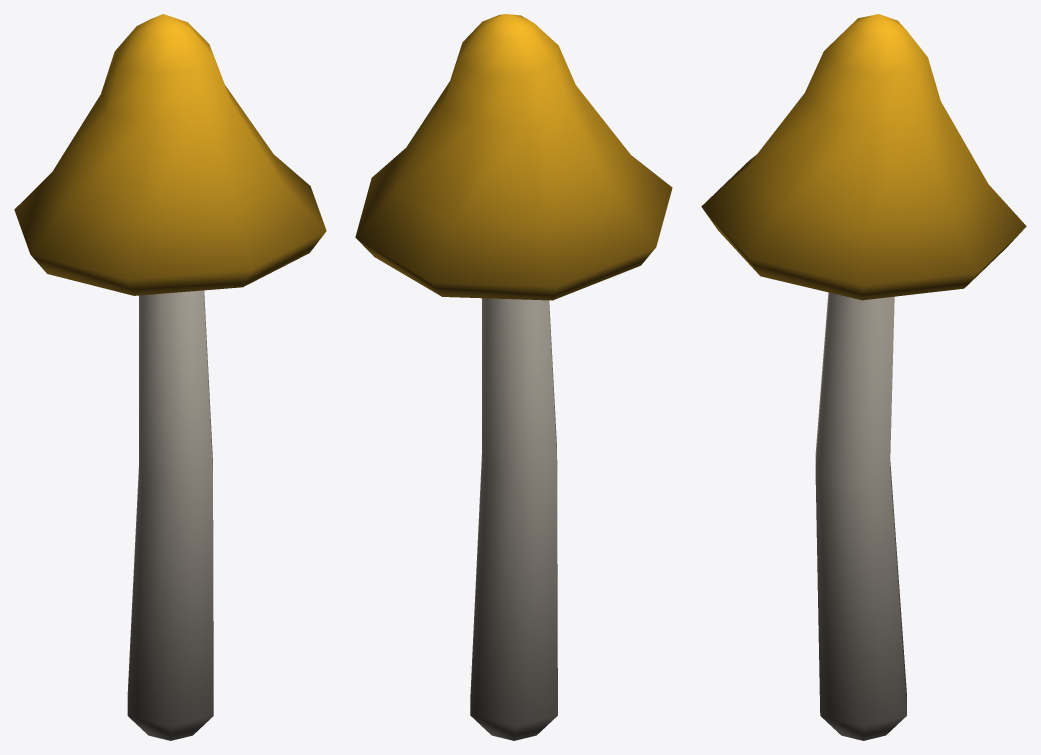
The model's file is SM_Mushroom_11.fbx.
The picture shows the model from 3 angles, left to right: view 1: azimuth 30°, elevation 25°; view 2: azimuth 150°, elevation 25°; view 3: azimuth 270°, elevation 25°; orthographic projection.
Visible parts, largest first — view 1: Mushroom_11; view 2: Mushroom_11; view 3: Mushroom_11.
Part boxes in pixels (x1,y1,x2,y2): Mushroom_11: (14,14,326,740); Mushroom_11: (355,14,672,740); Mushroom_11: (701,14,1026,740).
Bounding box in the file's own units: 238 × 577 × 238.
1 material, 1 textured.
